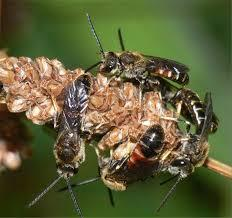Lasioglossum: (155, 90, 223, 198), (85, 22, 194, 88), (87, 121, 172, 198), (55, 67, 87, 196), (165, 82, 225, 142)
